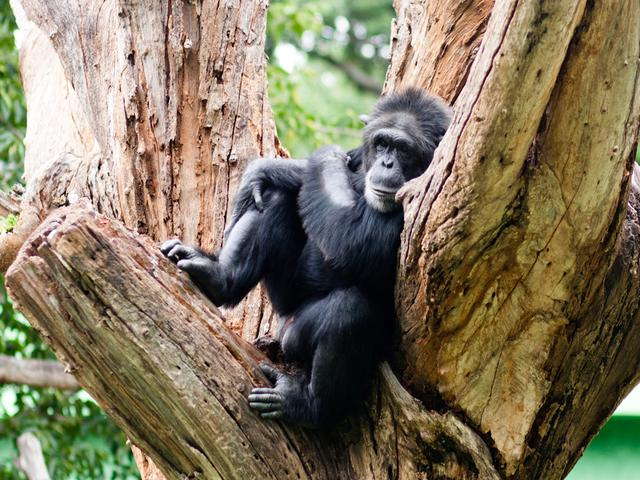monkey: (155, 58, 505, 437)
